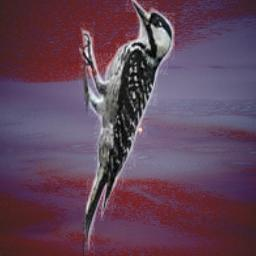Woodpecker: (79, 0, 175, 255)
